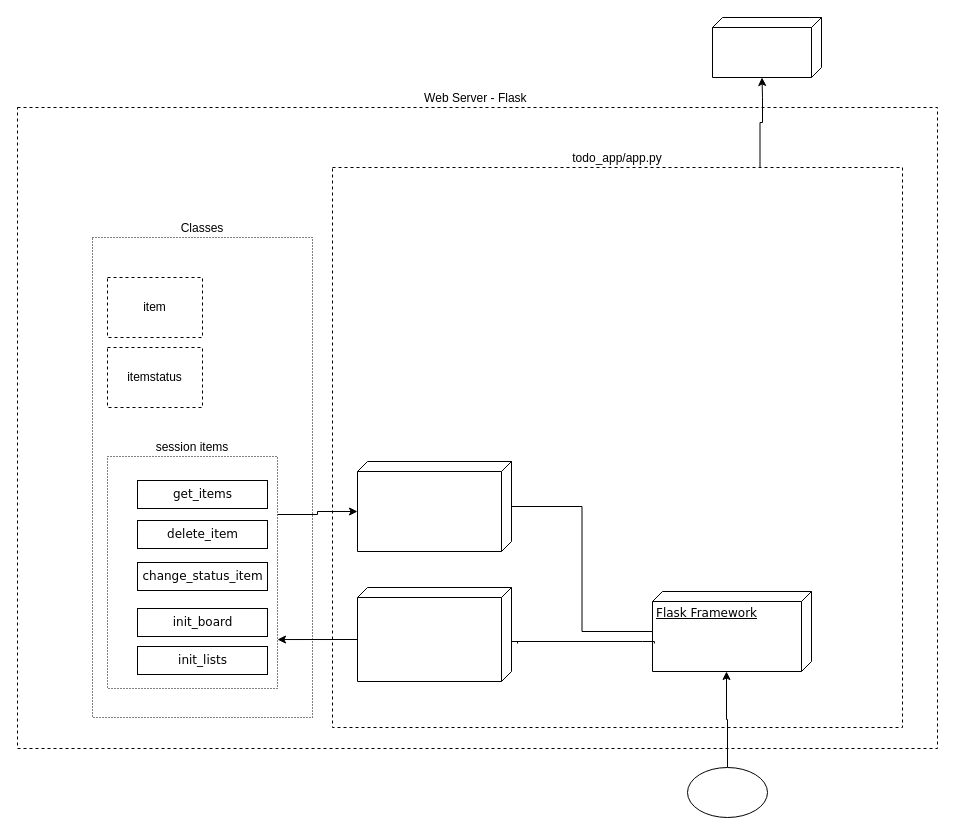
This 955x835 diagram has some shape labels left out. Here are the shapes that lost their labels. From the top down, the centre of each, then its label:
point (767, 47): Trello API
point (434, 506): View Rendering tools
point (434, 634): Routes
point (727, 792): Access to TODO App
